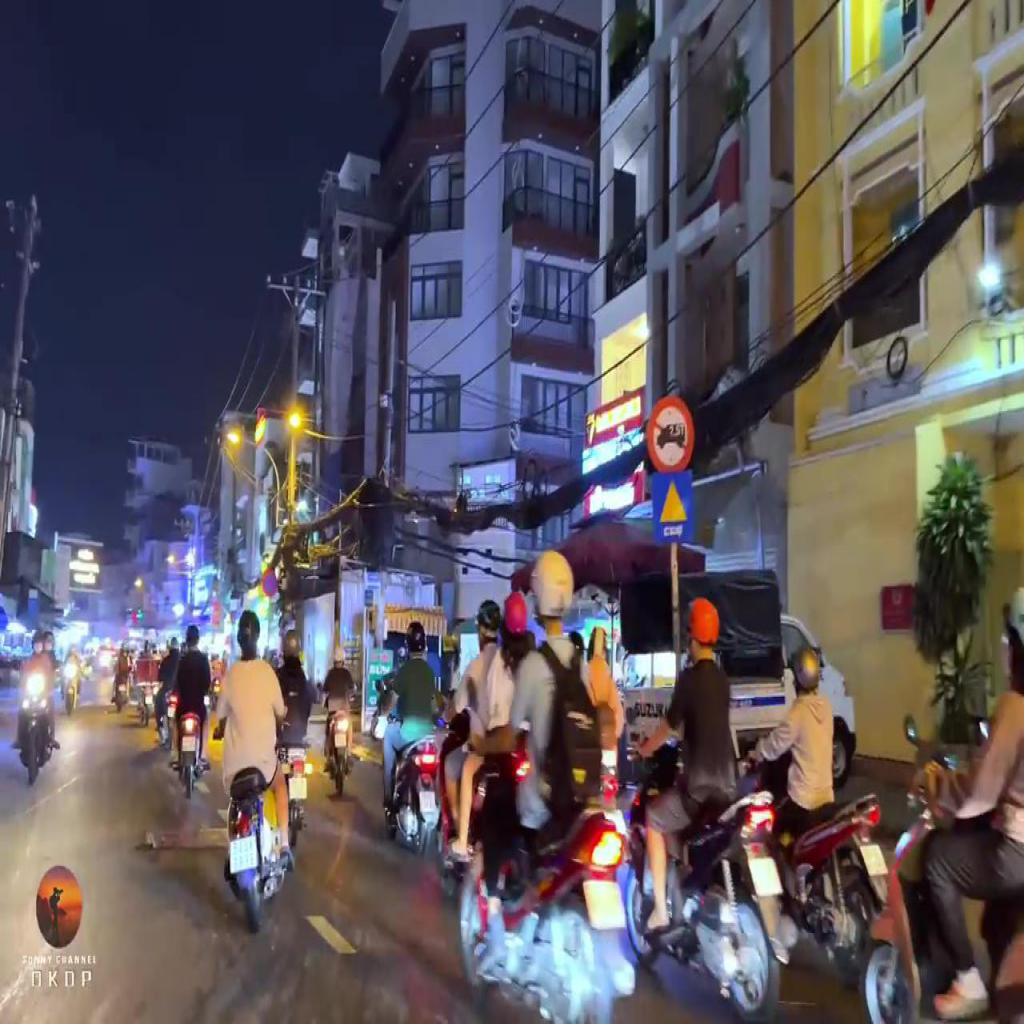cam_dung_xe_va_do_xe: (262, 564, 278, 598)
cam_o_to_tai_trong_luong_qua_2-5t: (646, 396, 694, 474)
cho: (650, 470, 694, 548)
